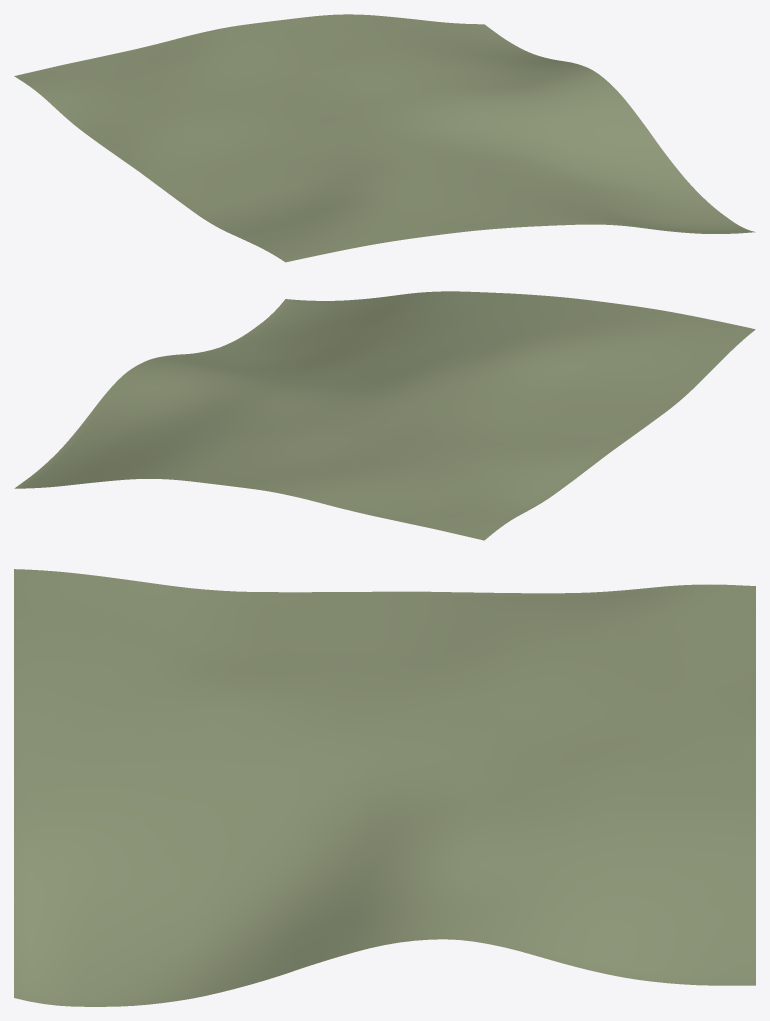
3 views of the same model, one above another, from view 1: azimuth 30°, elevation 25°; view 2: azimuth 150°, elevation 25°; view 3: azimuth 270°, elevation 25° (orthographic). The views are drawn at different scales.
Parts seen in each view (by area): view 1: ground; view 2: ground; view 3: ground.
Part boxes in pixels (x1,y1,x2,y2): ground: (14, 14, 755, 262); ground: (14, 291, 755, 540); ground: (14, 569, 755, 1006).
Bounding box in the file's own units: 250 × 46.17 × 250.
